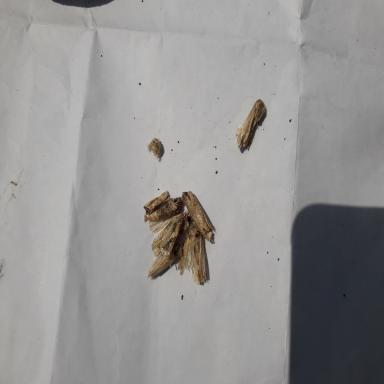abw: (150, 210, 191, 260), (178, 220, 207, 284), (182, 191, 215, 242), (236, 100, 266, 150), (147, 241, 182, 280), (146, 196, 182, 221), (143, 190, 169, 214)
